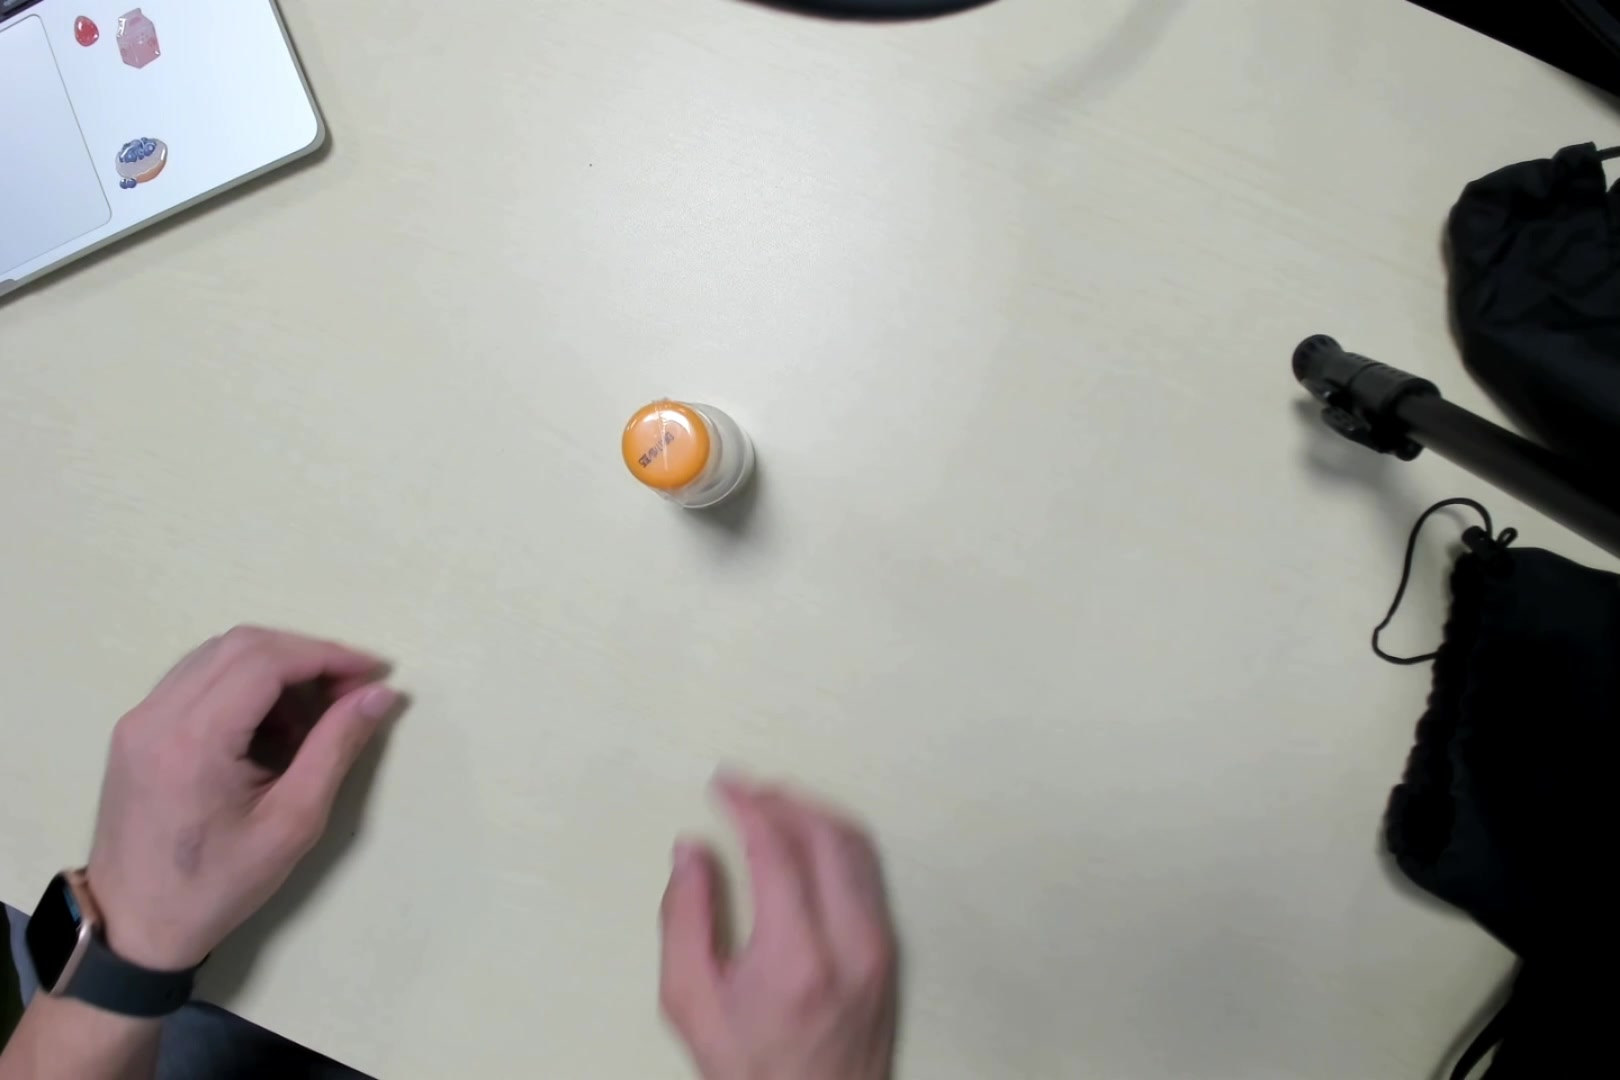HeabsSpicesPepper_0-99g_NonHalal_NonHealthy: (611, 391, 763, 520)
